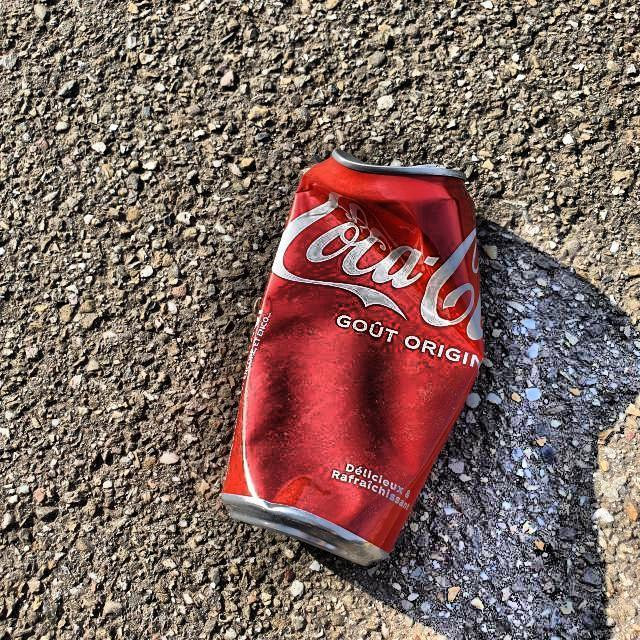metal: (220, 153, 486, 570)
